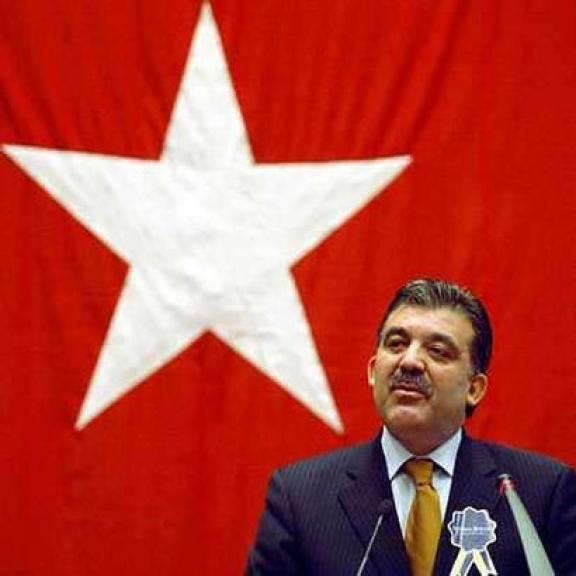face: (364, 302, 486, 428)
